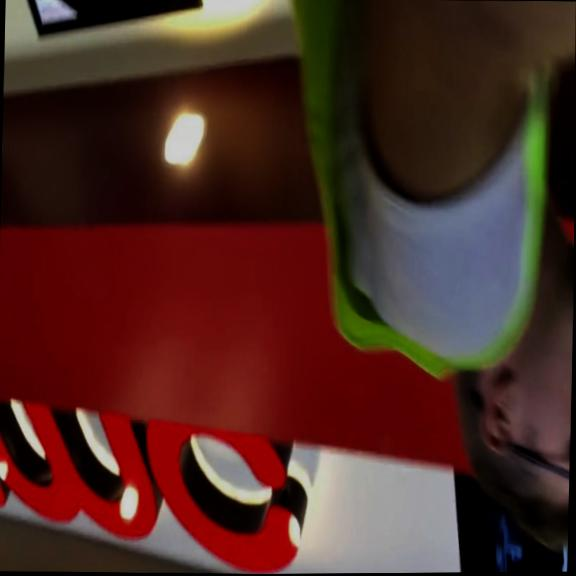safety_vest: (277, 0, 554, 378)
